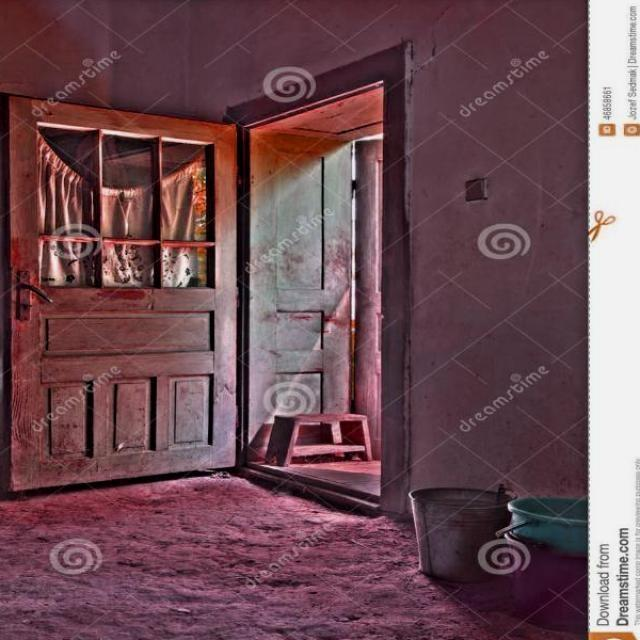door: (4, 93, 238, 495)
